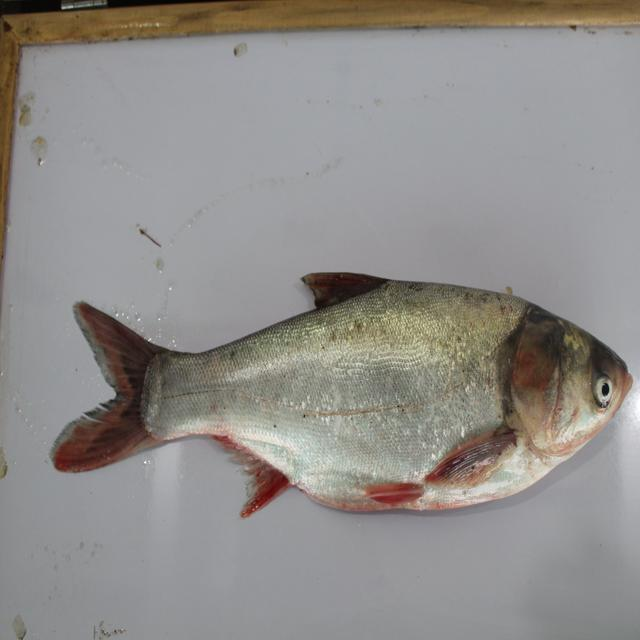SilverCarp: (45, 277, 622, 528)
